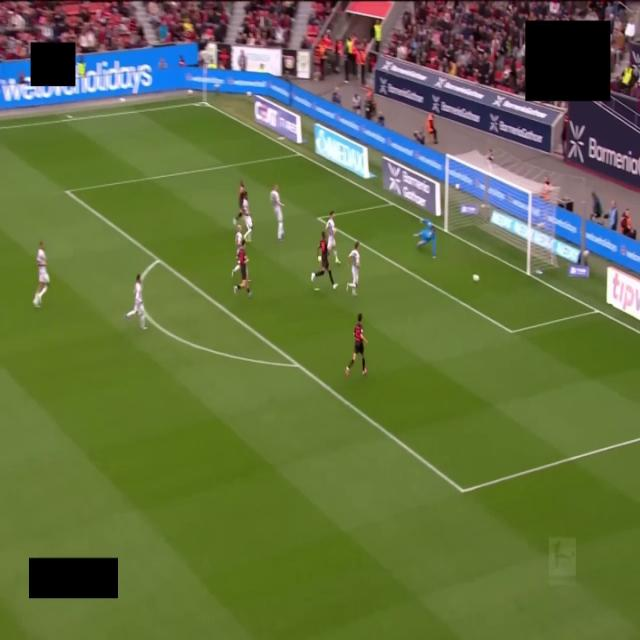ball: (473, 274, 479, 281)
player: (311, 232, 337, 289), (346, 313, 366, 375), (126, 275, 146, 329), (33, 242, 49, 307), (234, 239, 251, 296), (325, 211, 340, 264), (414, 220, 435, 257), (270, 184, 283, 241), (347, 242, 360, 295), (234, 181, 247, 224), (232, 224, 242, 277), (242, 194, 252, 241)
